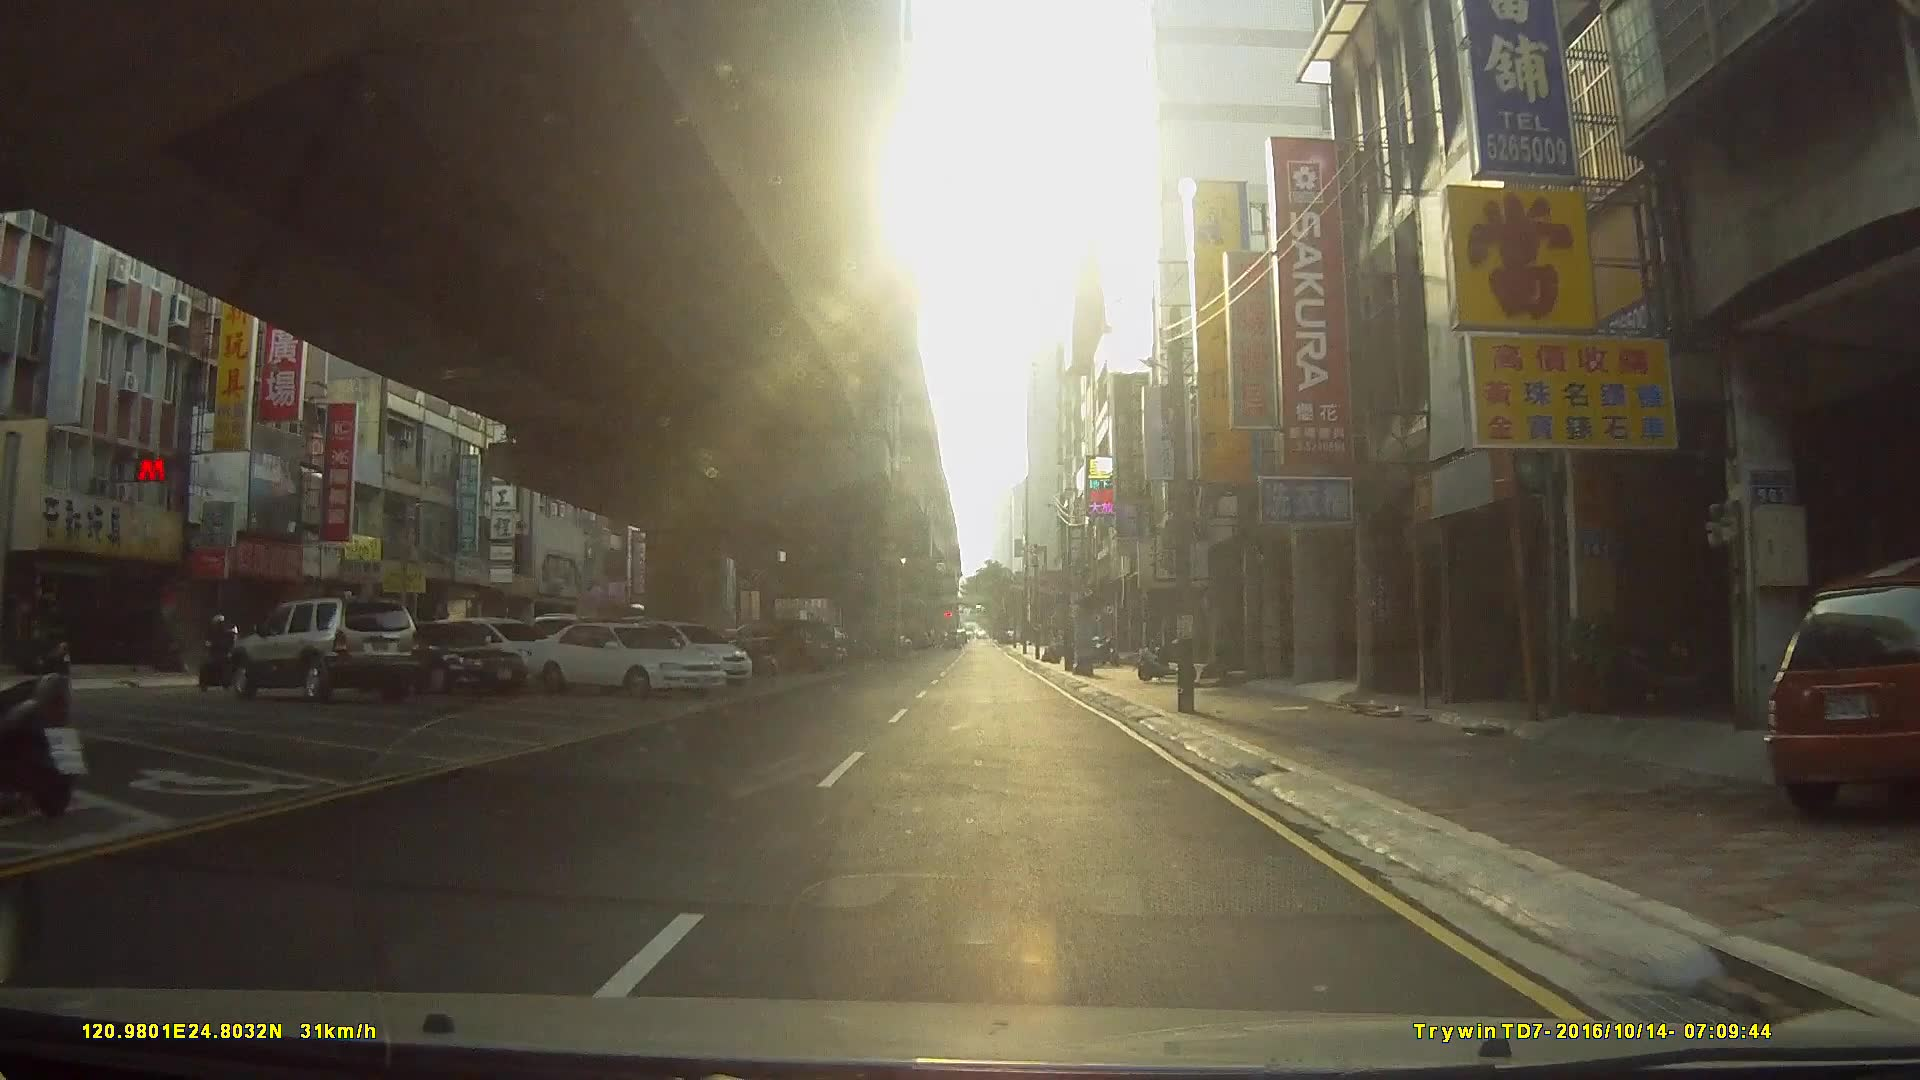rider: (198, 614, 246, 692)
vehicle: (1770, 559, 1920, 817), (227, 599, 420, 706), (324, 620, 527, 697), (522, 621, 731, 695)
